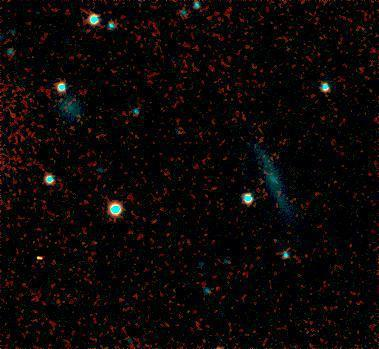star: (74, 183, 104, 213)
